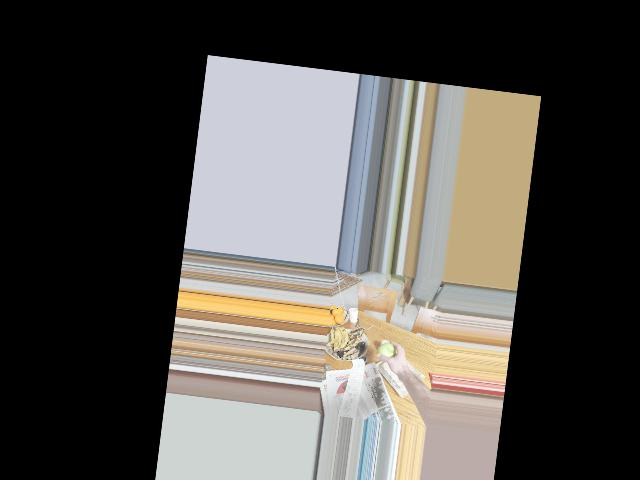apple: (375, 339, 399, 363)
